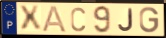9: (92, 5, 112, 35)
A: (42, 5, 68, 33)
C: (70, 6, 87, 33)
G: (139, 6, 160, 34)
J: (118, 8, 135, 33)
X: (18, 5, 43, 33)
